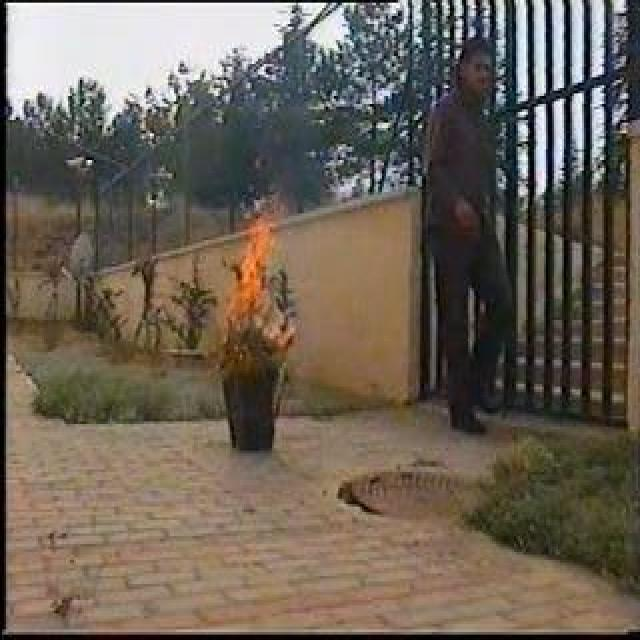fire: (233, 203, 275, 317)
